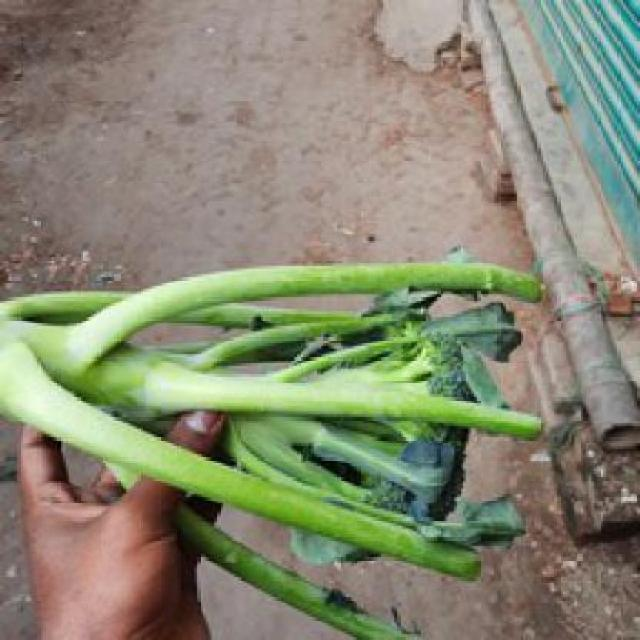broccoli: (14, 266, 514, 572)
